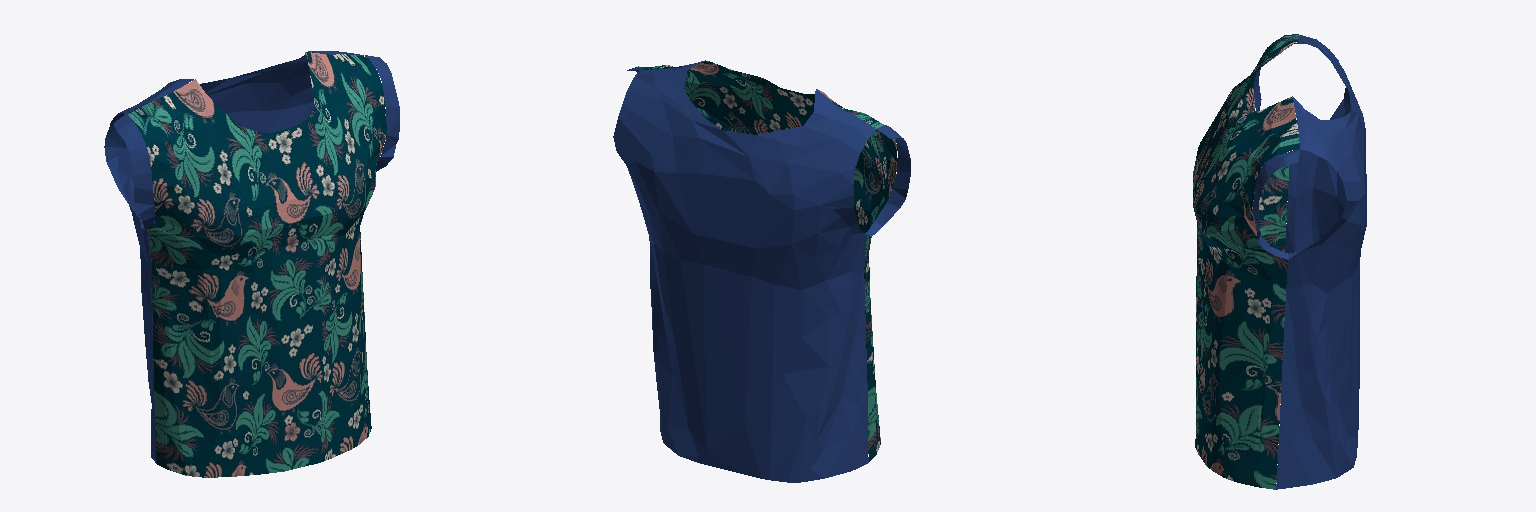
3 views of the same model, side by side, from view 1: azimuth 30°, elevation 25°; view 2: azimuth 150°, elevation 25°; view 3: azimuth 270°, elevation 25° (orthographic).
Parts seen in each view (by area): view 1: T_shirt.004; view 2: T_shirt.004; view 3: T_shirt.004.
Boxes of the visible parts, x1,y1,x2,y2 form: T_shirt.004: [104, 51, 399, 477]; T_shirt.004: [613, 60, 910, 482]; T_shirt.004: [1193, 34, 1366, 489].
Size of the model in its own units: 0.2935 by 0.3892 by 0.1639.
Materials: 2 (1 with a texture image).